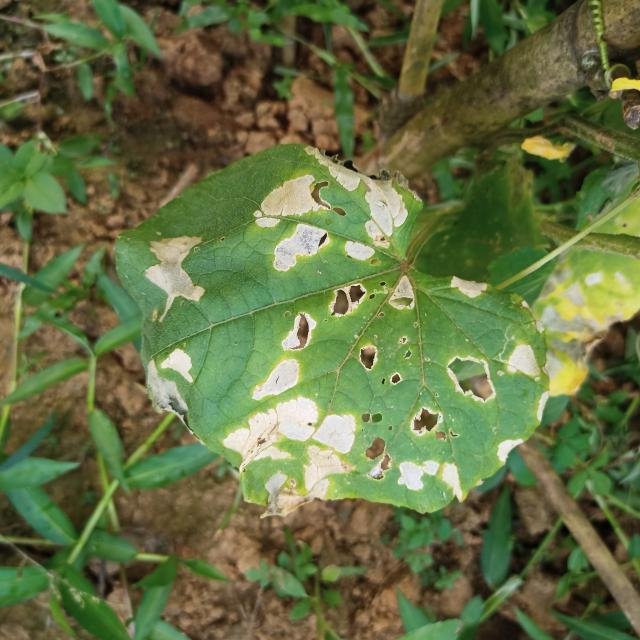disease_cucumber: (134, 140, 514, 510)
